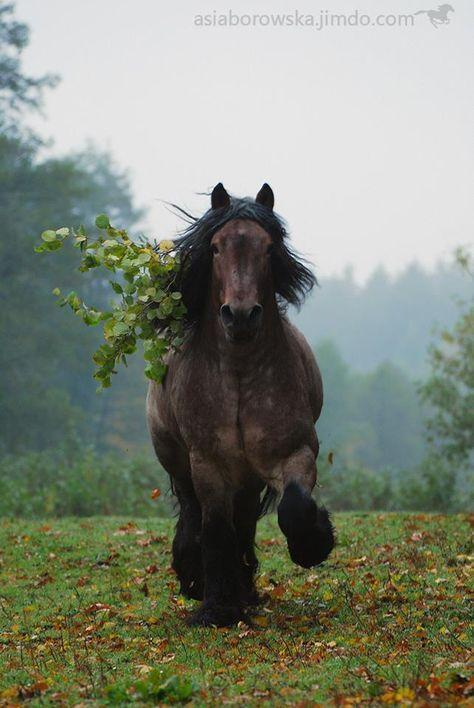horse: (144, 181, 336, 628)
